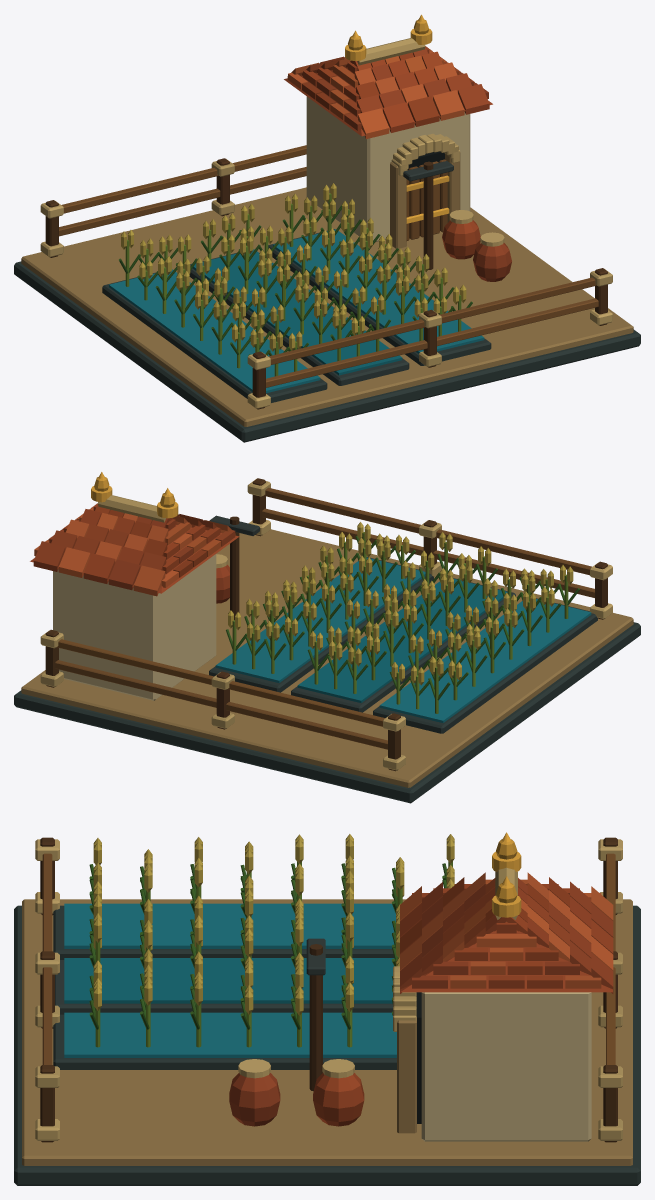
Rendered from farm.glb.
3 renders of one model, top to bottom at view 1: azimuth 30°, elevation 25°; view 2: azimuth 150°, elevation 25°; view 3: azimuth 270°, elevation 25°, orthographic. The views are drawn at different scales.
Visible parts, largest first — view 1: farm_structure, farm_brass; view 2: farm_structure, farm_brass; view 3: farm_structure, farm_brass.
Boxes of the visible parts, x1,y1,x2,y2 form: farm_structure: (14, 19, 640, 442); farm_brass: (345, 14, 449, 223); farm_structure: (14, 477, 640, 803); farm_brass: (91, 472, 178, 518); farm_structure: (14, 834, 640, 1185); farm_brass: (492, 832, 521, 917).
Size of the model in its own units: 5.6 by 2.81 by 5.6.
